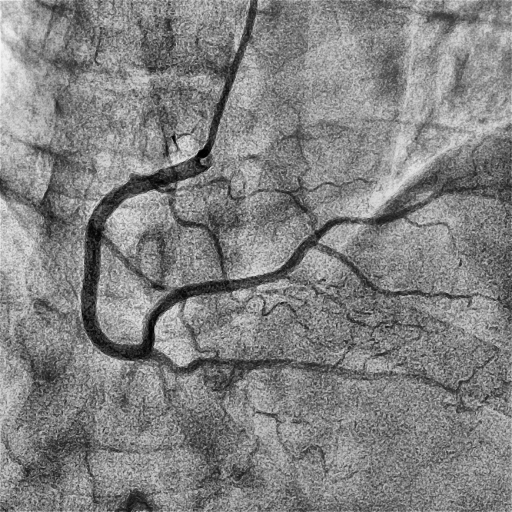pborca: (142, 184, 512, 348)
pda: (141, 348, 459, 393)
rca: (81, 153, 208, 361)
